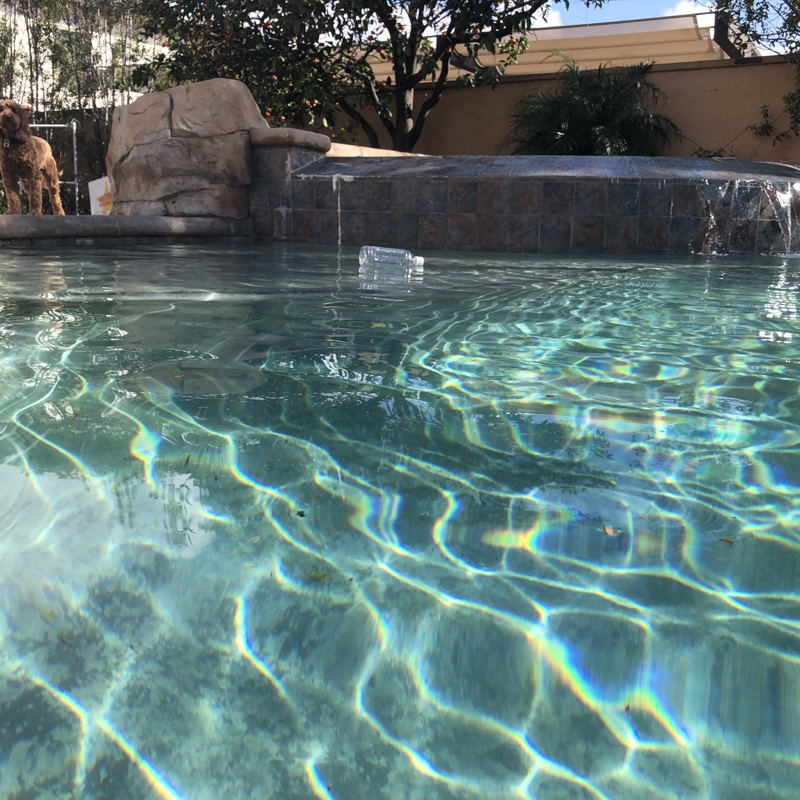Plastic Bottle: (355, 242, 425, 275)
